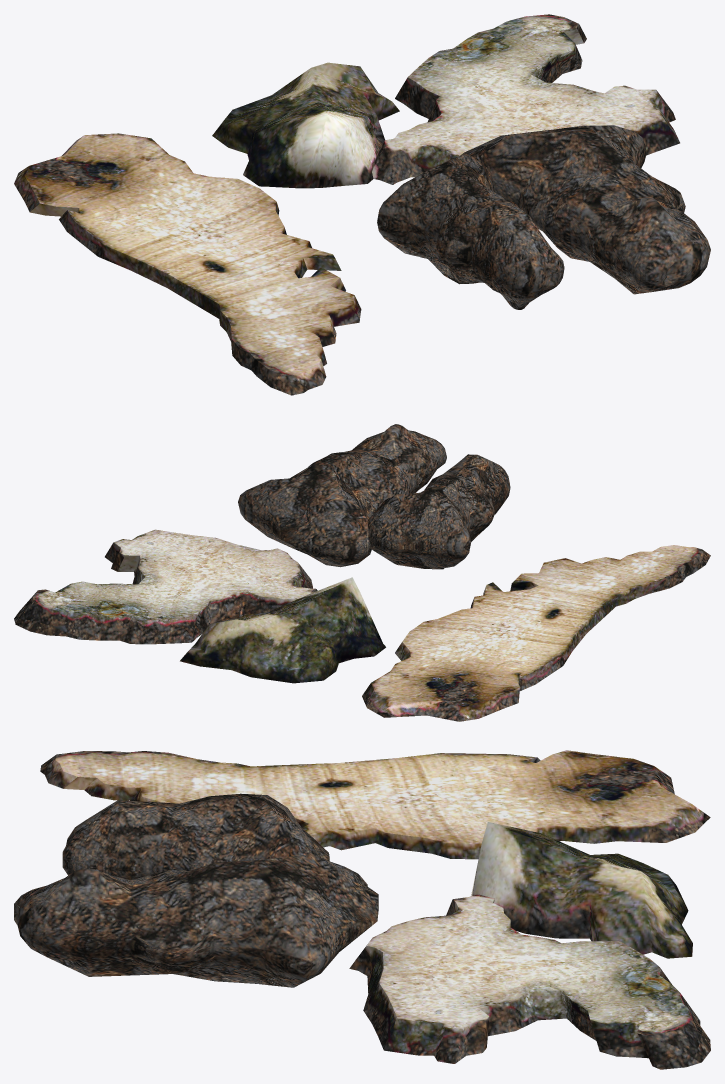
Rendered from zhuling.FBX.
3 views of the same model, one above another, from view 1: azimuth 30°, elevation 25°; view 2: azimuth 150°, elevation 25°; view 3: azimuth 270°, elevation 25° (orthographic). The views are drawn at different scales.
Visible parts, largest first — view 1: Line001, Line002, Sphere002, Sphere001, Line003; view 2: Line001, Line002, Sphere002, Line003, Sphere001; view 3: Line001, Line002, Sphere002, Line003, Sphere001.
Boxes of the visible parts, x1,y1,x2,y2 form: Line001: (14, 133, 361, 395); Line002: (372, 14, 679, 184); Sphere002: (460, 125, 710, 294); Sphere001: (377, 154, 564, 309); Line003: (212, 62, 399, 188); Line001: (362, 545, 710, 721); Line002: (14, 529, 317, 644); Sphere002: (238, 424, 446, 567); Line003: (180, 577, 385, 683); Sphere001: (368, 454, 510, 569); Line001: (40, 750, 710, 859); Line002: (349, 894, 710, 1069); Sphere002: (14, 854, 378, 987); Line003: (470, 822, 692, 958); Sphere001: (62, 793, 329, 880).
Size of the model in its own units: 25.57 by 4.45 by 24.39.
1 material, 1 textured.
